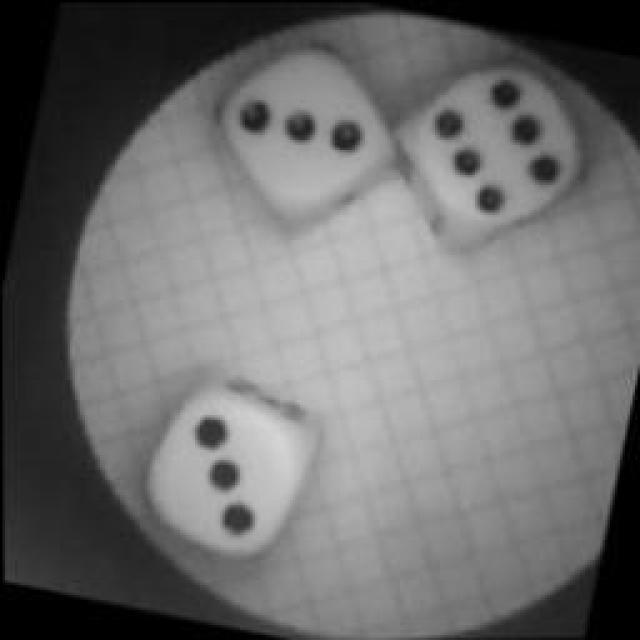dice_3: (194, 20, 408, 235), (116, 359, 322, 579)
dice_6: (376, 31, 612, 261)
